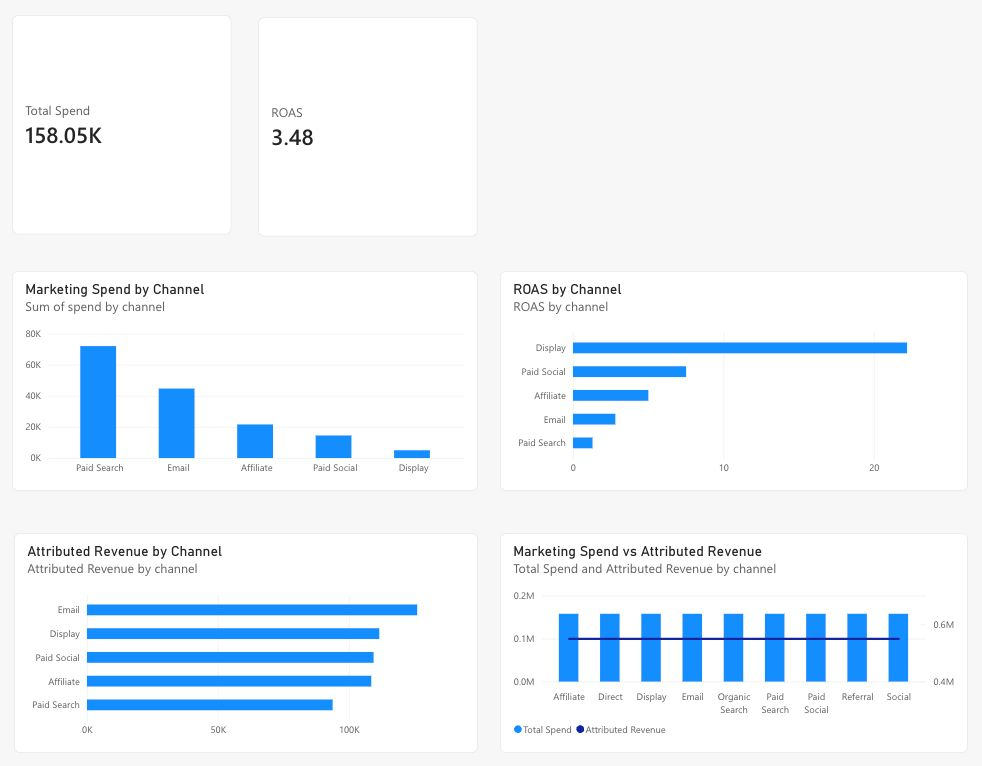

This screenshot's page, from the dashboard's own definition file:
{"tool":"powerbi","page":{"name":"Marketing Performance","canvas":[1920,1080],"ordinal":3},"visuals":[{"type":"cardVisual","fields":{"Data":["customer_events.Total Spend"]},"box":[98.4,91.2,280,280],"z":0},{"type":"cardVisual","fields":{"Data":["customer_events.ROAS"]},"box":[412.8,93.6,280,280],"z":1000},{"type":"clusteredColumnChart","title":"Marketing Spend by Channel","fields":{"Category":["marketing_campaigns.channel"],"Y":["Sum(marketing_campaigns.spend)"]},"box":[98.4,417.6,280,280],"z":2000},{"type":"clusteredBarChart","title":"ROAS by Channel","fields":{"Category":["marketing_campaigns.channel"],"Y":["customer_events.ROAS"]},"box":[412.8,417.6,280,280],"z":3000},{"type":"clusteredBarChart","title":"Attributed Revenue by Channel","fields":{"Category":["marketing_campaigns.channel"],"Y":["customer_events.Attributed Revenue"]},"box":[98.4,751.2,280,280],"z":4000},{"type":"lineClusteredColumnComboChart","title":"Marketing Spend vs Attributed Revenue","fields":{"Category":["customer_events.channel"],"Y":["customer_events.Total Spend"],"Y2":["customer_events.Attributed Revenue"]},"box":[413,751,280,280],"z":5000}]}

Visuals, with their boxes on the page's 1920x1080 design canvas (x1, y1, x2, y2). These are canvas units, not pixel positions in the 982x766 screenshot, which may show the page scaled, cropped or inside an application window:
cardVisual - customer_events.Total Spend: l=98, t=91, r=378, b=371
cardVisual - customer_events.ROAS: l=413, t=94, r=693, b=374
"Marketing Spend by Channel" clusteredColumnChart: l=98, t=418, r=378, b=698
"ROAS by Channel" clusteredBarChart: l=413, t=418, r=693, b=698
"Attributed Revenue by Channel" clusteredBarChart: l=98, t=751, r=378, b=1031
"Marketing Spend vs Attributed Revenue" lineClusteredColumnComboChart: l=413, t=751, r=693, b=1031
